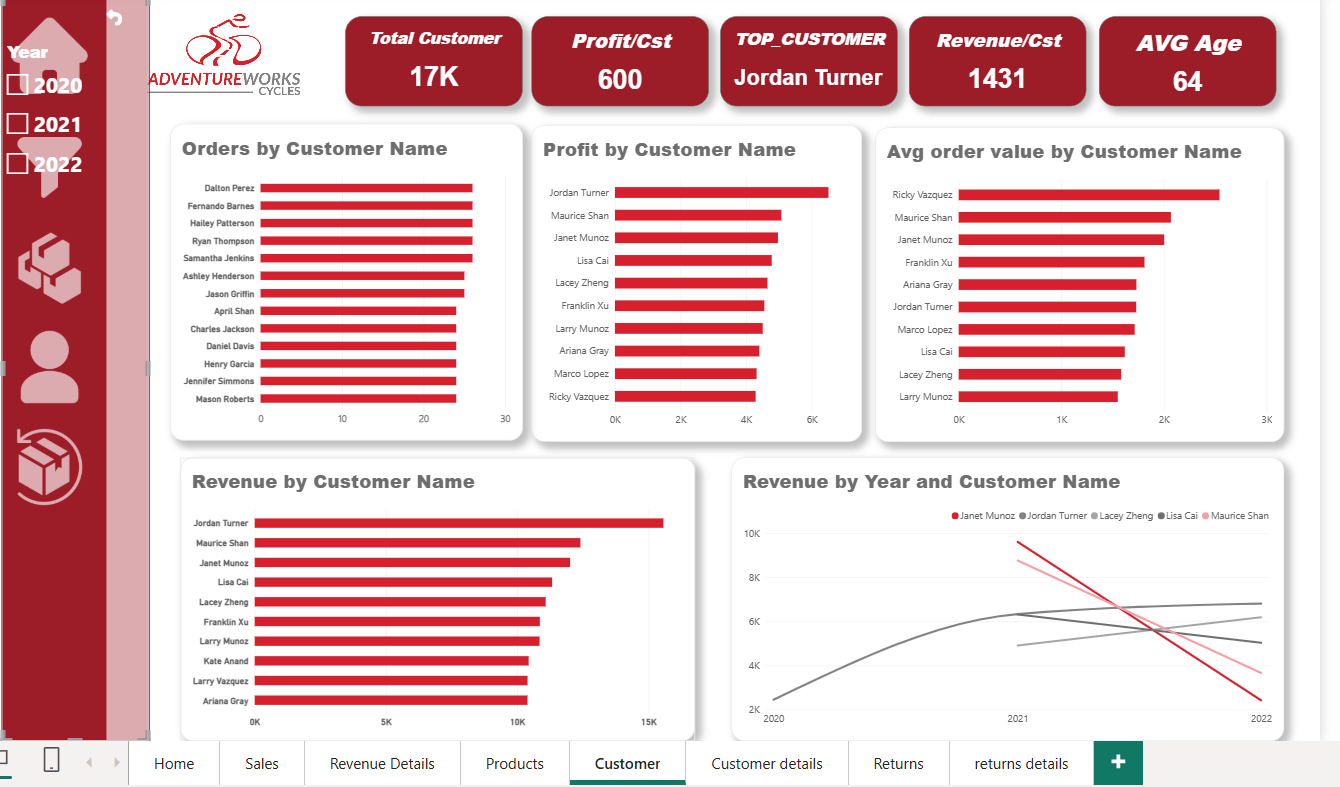

Layout of this report page (visuals, bound fields, positions):
{"tool":"powerbi","page":{"name":"Customer","canvas":[1920,1080],"ordinal":4},"visuals":[{"type":"image","box":[86.7,15,488.3,145],"z":0},{"type":"shape","box":[10,0,151.7,1080],"z":1000},{"type":"advanceCardE03760C5AB684758B56AA29F9E6C257B","title":"Total Customer","fields":{"mainMeasure":["Measur.Total Customer"]},"box":[508.3,30,256.7,130],"z":3000},{"type":"advanceCardE03760C5AB684758B56AA29F9E6C257B","title":"Profit/Cst","fields":{"mainMeasure":["Measur.Profit Per Customer"]},"box":[778.3,30,256.7,130],"z":4000},{"type":"advanceCardE03760C5AB684758B56AA29F9E6C257B","title":"TOP_CUSTOMER","fields":{"mainMeasure":["Measur.TOP_CUSTOMER"]},"box":[1051.7,30,256.7,130],"z":5000},{"type":"advanceCardE03760C5AB684758B56AA29F9E6C257B","title":"Revenue/Cst","fields":{"mainMeasure":["Measur.Revenue Per Customer"]},"box":[1325,30,256.7,130],"z":6000},{"type":"advanceCardE03760C5AB684758B56AA29F9E6C257B","title":"AVG Age","fields":{"mainMeasure":["Measur.AVG Age"]},"box":[1600,30,256.7,130],"z":7000},{"type":"barChart","fields":{"Category":["Customer.Customer Name"],"Y":["Measur.Revenue"]},"box":[270,670,745,410],"z":8000},{"type":"barChart","fields":{"Category":["Customer.Customer Name"],"Y":["Measur.Orders"]},"box":[255,186.7,510,458.3],"z":9000},{"type":"clusteredBarChart","fields":{"Category":["Customer.Customer Name"],"Y":["Measur.Profit"]},"box":[778.3,188.3,478.3,458.3],"z":10000},{"type":"image","box":[25,26.7,110,121.7],"z":11000},{"type":"image","box":[25,186.7,110,121.7],"z":12000},{"type":"image","box":[25,335,110,121.7],"z":13000},{"type":"image","box":[25,478.3,110,121.7],"z":14000},{"type":"image","box":[25,623.3,110,121.7],"z":15000},{"type":"clusteredBarChart","fields":{"Category":["Customer.Customer Name"],"Y":["Measur.Avg order value"]},"box":[1276.7,191.7,591.7,455],"z":17000},{"type":"lineChart","fields":{"Category":["Calendar.Date.Variation.Date Hierarchy.Year"],"Series":["Customer.Customer Name"],"Y":["Measur.Revenue"]},"box":[1068.3,670,800,410],"z":18000}]}

Visuals, with their boxes on the page's 1920x1080 design canvas (x1, y1, x2, y2). These are canvas units, not pixel positions in the 1340x787 screenshot, which may show the page scaled, cropped or inside an application window:
image: pyautogui.locateOnScreen(87, 15, 575, 160)
shape: pyautogui.locateOnScreen(10, 0, 162, 1080)
"Total Customer" advanceCardE03760C5AB684758B56AA29F9E6C257B: pyautogui.locateOnScreen(508, 30, 765, 160)
"Profit/Cst" advanceCardE03760C5AB684758B56AA29F9E6C257B: pyautogui.locateOnScreen(778, 30, 1035, 160)
"TOP_CUSTOMER" advanceCardE03760C5AB684758B56AA29F9E6C257B: pyautogui.locateOnScreen(1052, 30, 1308, 160)
"Revenue/Cst" advanceCardE03760C5AB684758B56AA29F9E6C257B: pyautogui.locateOnScreen(1325, 30, 1582, 160)
"AVG Age" advanceCardE03760C5AB684758B56AA29F9E6C257B: pyautogui.locateOnScreen(1600, 30, 1857, 160)
barChart - Customer.Customer Name x Measur.Revenue: pyautogui.locateOnScreen(270, 670, 1015, 1080)
barChart - Customer.Customer Name x Measur.Orders: pyautogui.locateOnScreen(255, 187, 765, 645)
clusteredBarChart - Customer.Customer Name x Measur.Profit: pyautogui.locateOnScreen(778, 188, 1257, 647)
image: pyautogui.locateOnScreen(25, 27, 135, 148)
image: pyautogui.locateOnScreen(25, 187, 135, 308)
image: pyautogui.locateOnScreen(25, 335, 135, 457)
image: pyautogui.locateOnScreen(25, 478, 135, 600)
image: pyautogui.locateOnScreen(25, 623, 135, 745)
clusteredBarChart - Customer.Customer Name x Measur.Avg order value: pyautogui.locateOnScreen(1277, 192, 1868, 647)
lineChart - Calendar.Date.Variation.Date Hierarchy.Year x Customer.Customer Name: pyautogui.locateOnScreen(1068, 670, 1868, 1080)
